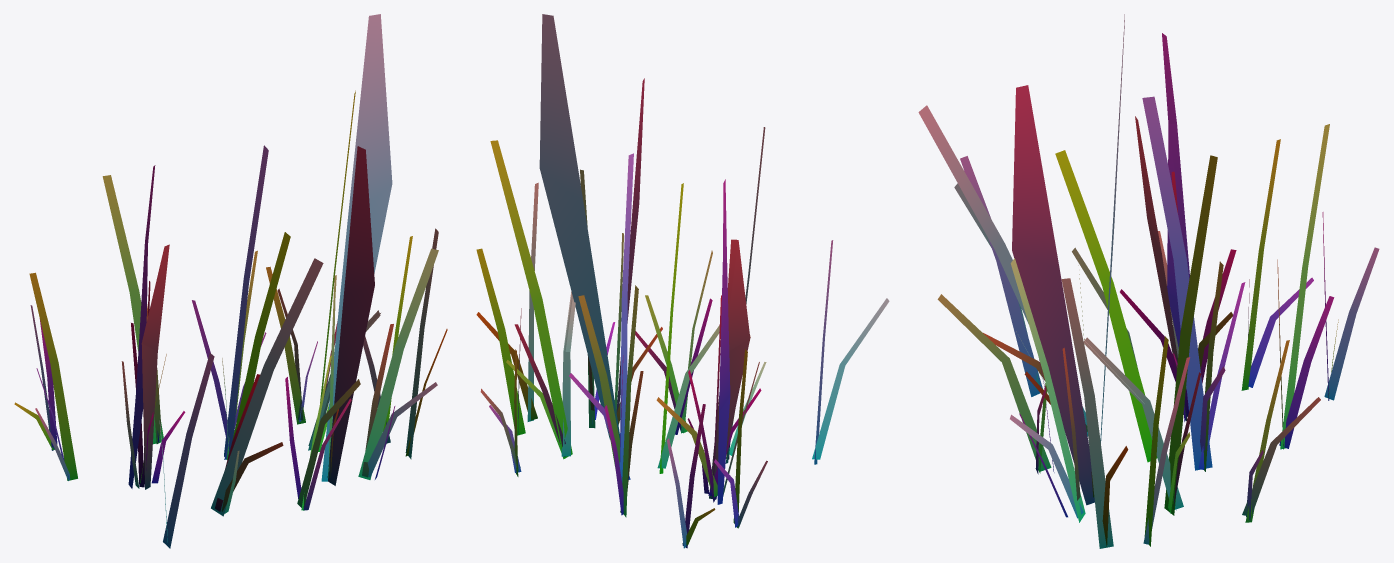
The model's file is Nordic_Coastal_Groundcover_vlqkdeaja_Mid_vlqkdeaja_VarM_LOD1.fbx.
3 renders of one model, left to right at view 1: azimuth 30°, elevation 25°; view 2: azimuth 150°, elevation 25°; view 3: azimuth 270°, elevation 25°, orthographic. The views are drawn at different scales.
Visible parts, largest first — view 1: _ayk8_VarM_LOD3; view 2: _ayk8_VarM_LOD3; view 3: _ayk8_VarM_LOD3.
Part boxes in pixels (box(x1,y1,x2,y2)): _ayk8_VarM_LOD3: box(14, 14, 447, 548); _ayk8_VarM_LOD3: box(476, 14, 889, 548); _ayk8_VarM_LOD3: box(918, 14, 1379, 548).
Size of the model in its own units: 38.09 by 44.92 by 36.01.
